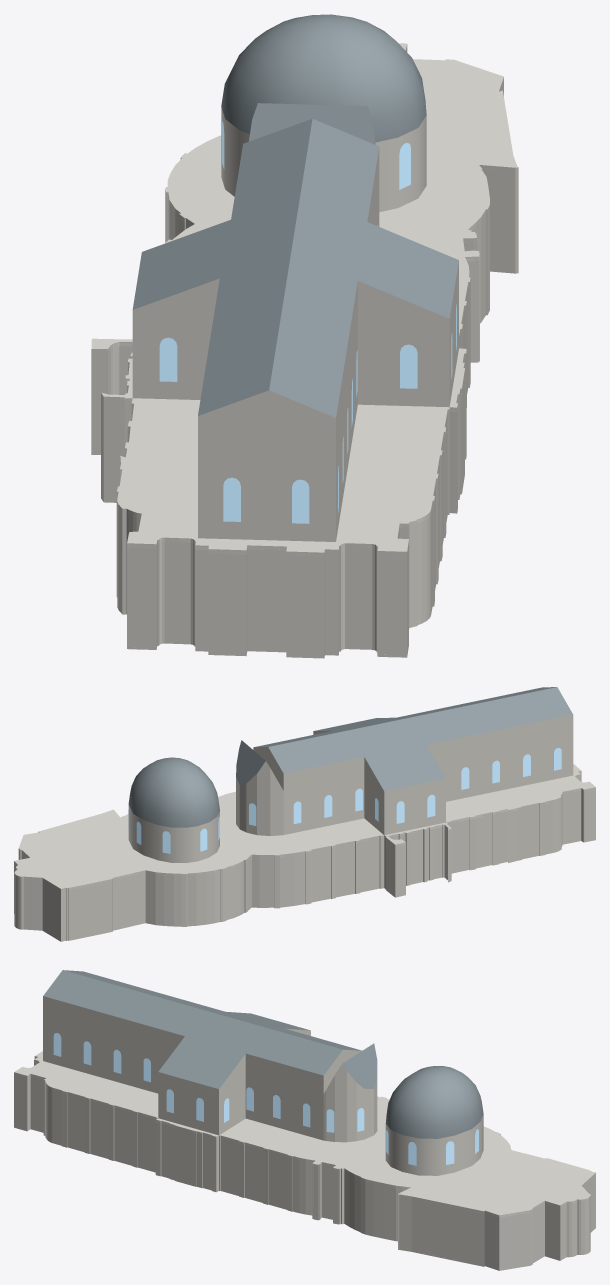
The model's file is detail.glb.
3 renders of one model, top to bottom at view 1: azimuth 30°, elevation 25°; view 2: azimuth 150°, elevation 25°; view 3: azimuth 270°, elevation 25°, orthographic. The views are drawn at different scales.
Visible parts, largest first — view 1: stone, roof, window, trim; view 2: stone, roof, window, trim; view 3: stone, roof, window, trim.
Boxes of the visible parts, x1,y1,x2,y2 form: stone: (91, 43, 518, 658); roof: (132, 14, 458, 417); window: (159, 121, 456, 523); trim: (101, 47, 518, 556); stone: (14, 714, 595, 941); roof: (128, 687, 572, 827); window: (128, 748, 561, 853); trim: (14, 772, 595, 889); stone: (14, 996, 595, 1270); roof: (43, 970, 483, 1138); window: (53, 1033, 478, 1165); trim: (14, 1061, 595, 1217).
Bounding box in the file's own units: 90.28 × 30 × 114.
